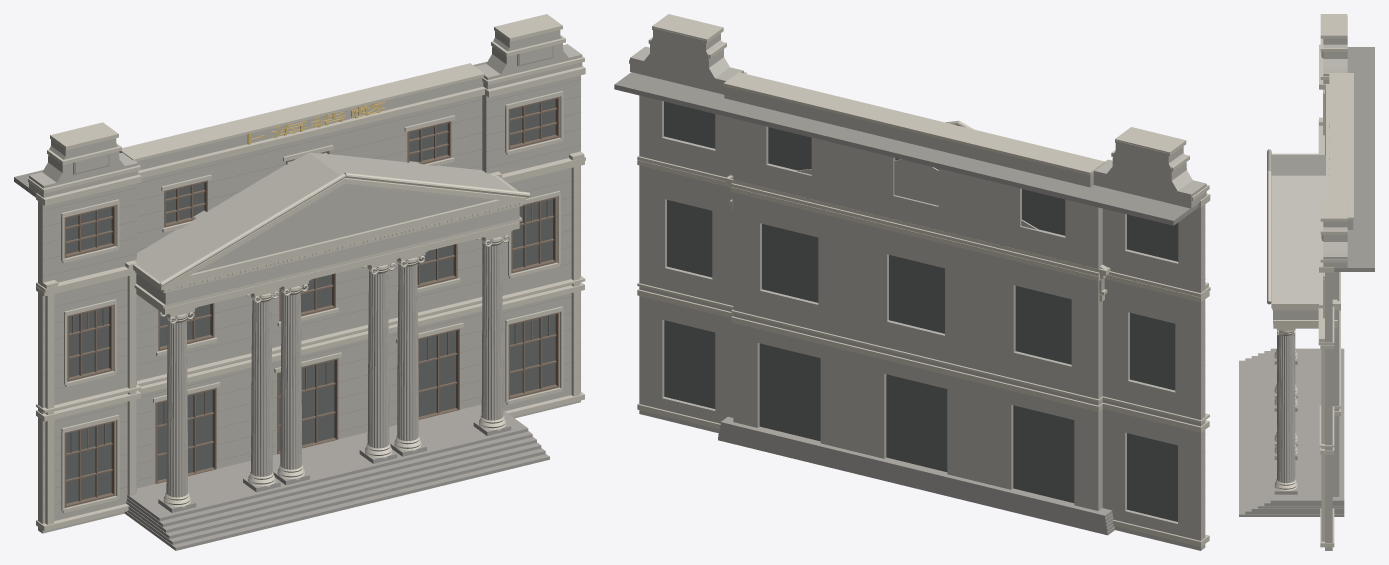
The model's file is putuo-central-mint-main-portico-web.glb.
3 views of the same model, side by side, from view 1: azimuth 30°, elevation 25°; view 2: azimuth 150°, elevation 25°; view 3: azimuth 270°, elevation 25° (orthographic). The views are drawn at different scales.
Visible parts, largest first — view 1: 中央造币厂主楼三角山花与六柱门廊; view 2: 中央造币厂主楼三角山花与六柱门廊; view 3: 中央造币厂主楼三角山花与六柱门廊.
Part boxes in pixels (x1,y1,x2,y2): 中央造币厂主楼三角山花与六柱门廊: [14, 14, 585, 550]; 中央造币厂主楼三角山花与六柱门廊: [614, 14, 1210, 550]; 中央造币厂主楼三角山花与六柱门廊: [1239, 14, 1374, 550].
Bounding box in the file's own units: 25.4 × 17.21 × 6.55.
